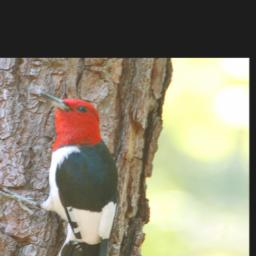Woodpecker: (0, 89, 136, 256)
